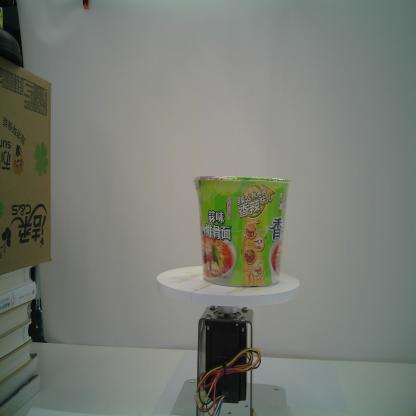Instant Noodles: (192, 173, 294, 288)
